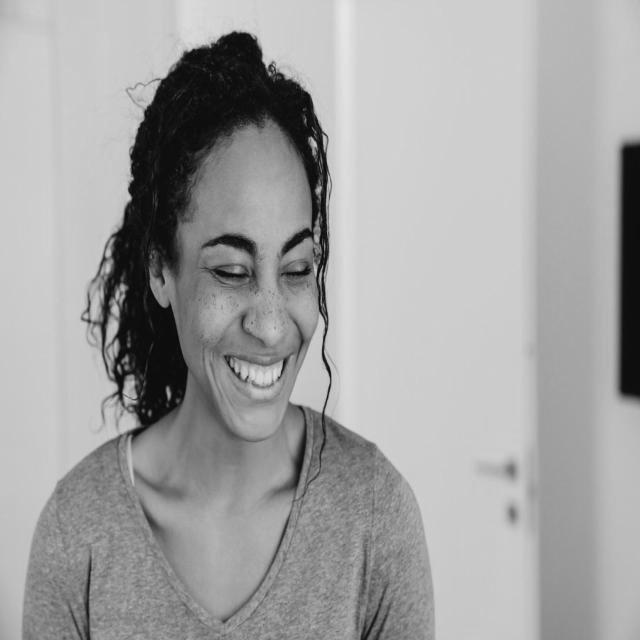real: (150, 125, 318, 445), (192, 224, 324, 293)
